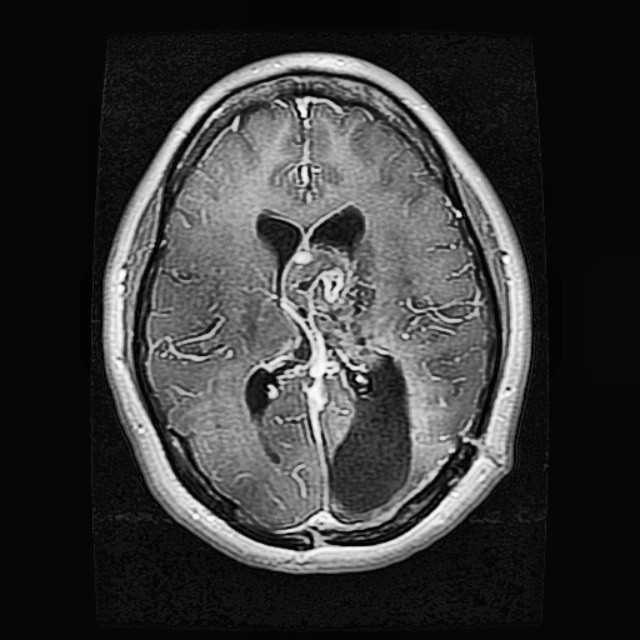Meningioma: (260, 203, 413, 518)
